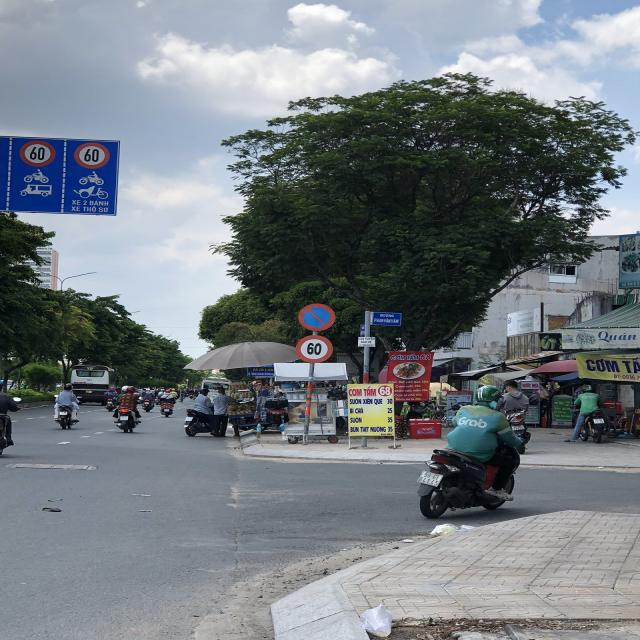Bien bao cam do xe: (290, 301, 340, 333)
Bien bao toc do toi da cho phep: (68, 138, 112, 173), (17, 138, 58, 169), (296, 333, 338, 362)
